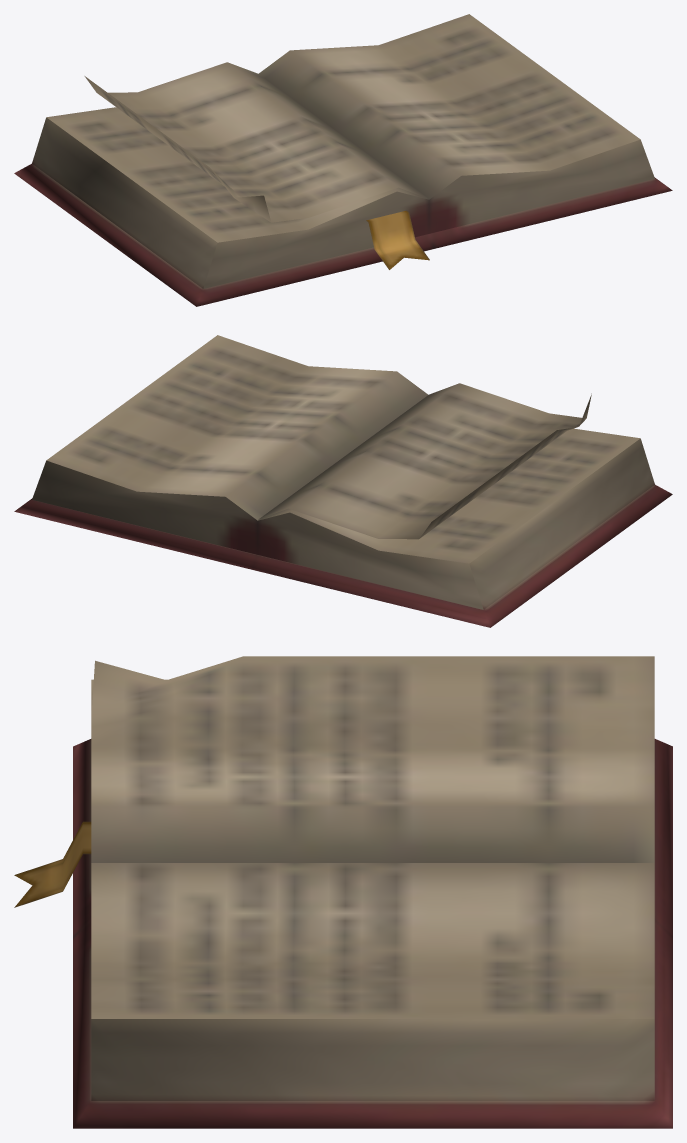
File: book-open.FBX
The picture shows the model from 3 angles, top to bottom: view 1: azimuth 30°, elevation 25°; view 2: azimuth 150°, elevation 25°; view 3: azimuth 270°, elevation 25°; orthographic projection. The views are drawn at different scales.
Parts seen in each view (by area): view 1: book-open; view 2: book-open; view 3: book-open.
Part boxes in pixels (x1,y1,x2,y2): book-open: (14,14,672,306); book-open: (14,335,672,627); book-open: (14,656,672,1128).
Bounding box in the file's own units: 96.47 × 17.11 × 70.31.
